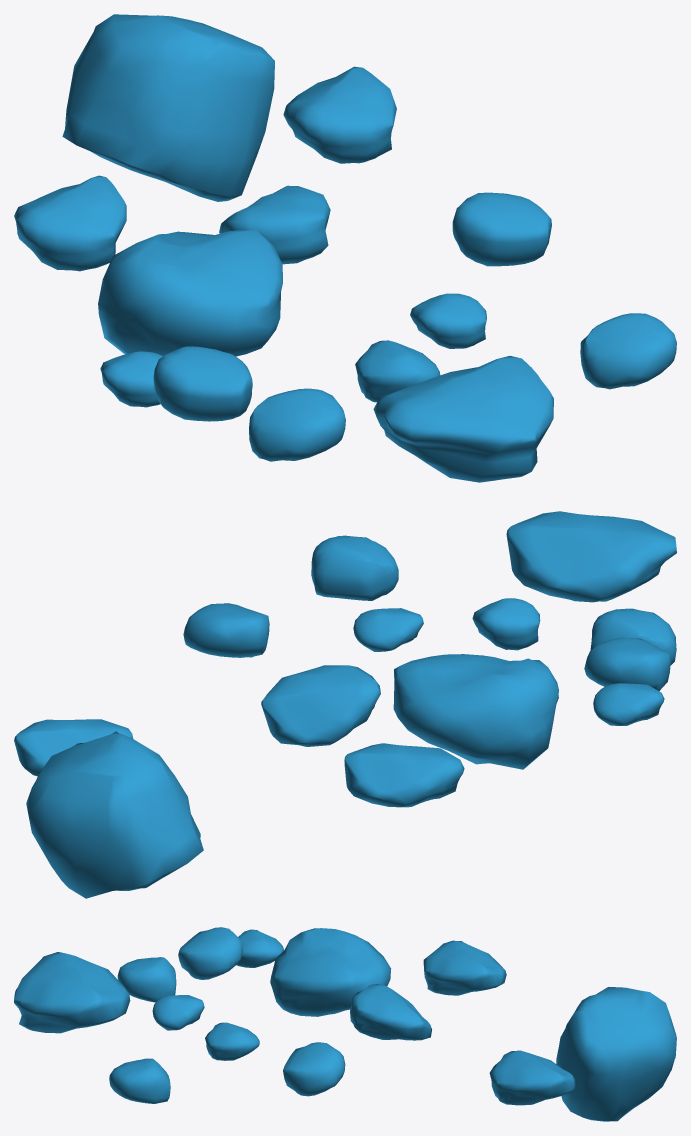
The model's file is Scree_02_Lod0.fbx.
The picture shows the model from 3 angles, top to bottom: view 1: azimuth 30°, elevation 25°; view 2: azimuth 150°, elevation 25°; view 3: azimuth 270°, elevation 25°; orthographic projection. The views are drawn at different scales.
Parts seen in each view (by area): view 1: Scree_02_Lod0; view 2: Scree_02_Lod0; view 3: Scree_02_Lod0.
Part boxes in pixels (left/top/right/bottom): Scree_02_Lod0: left=14, top=14, right=676, bottom=482; Scree_02_Lod0: left=14, top=511, right=676, bottom=898; Scree_02_Lod0: left=14, top=927, right=676, bottom=1121.
Size of the model in its own units: 1527 by 500 by 2699.
